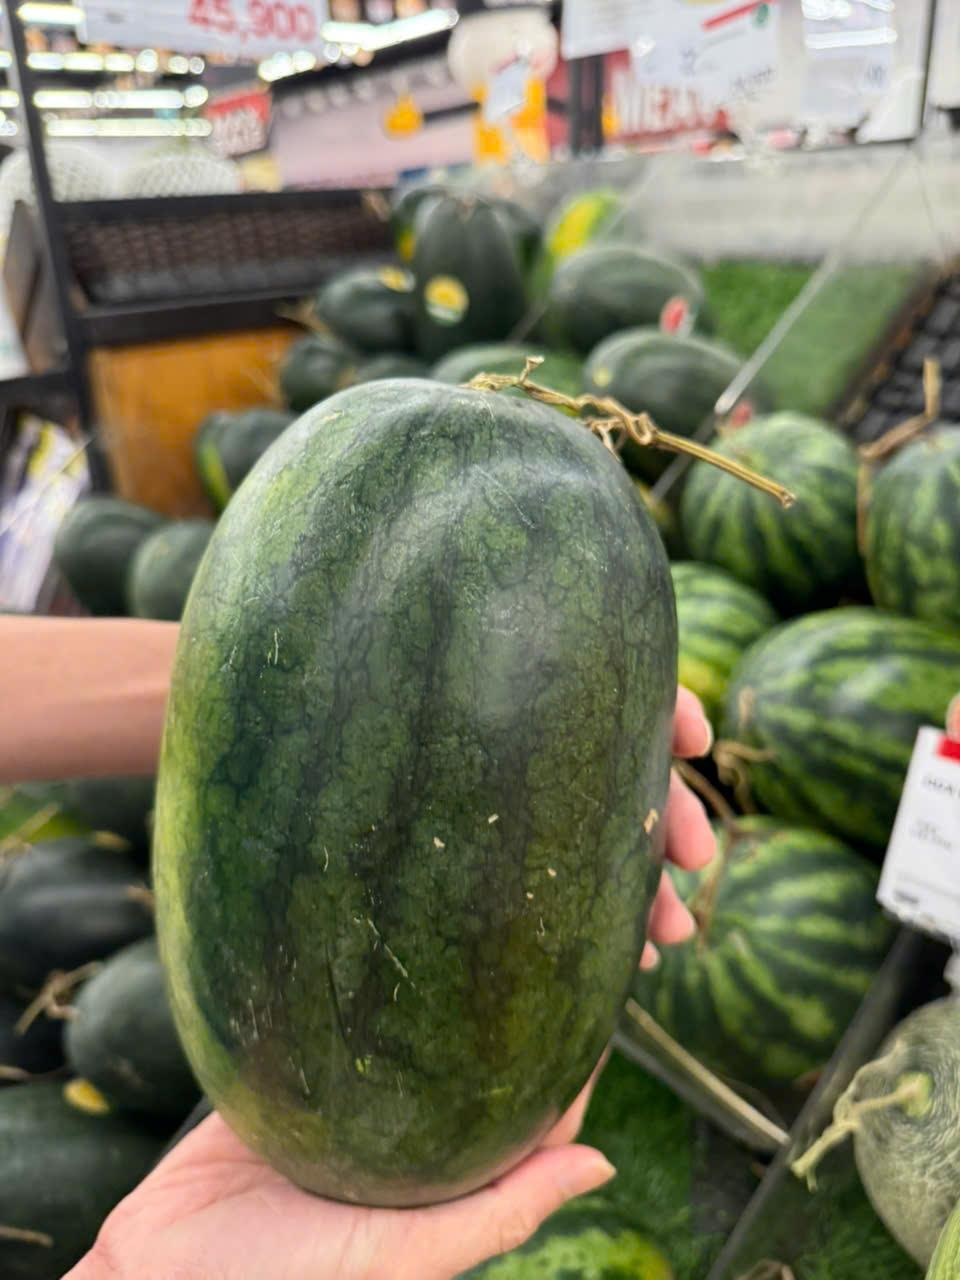watermelon: (172, 346, 662, 1200)
